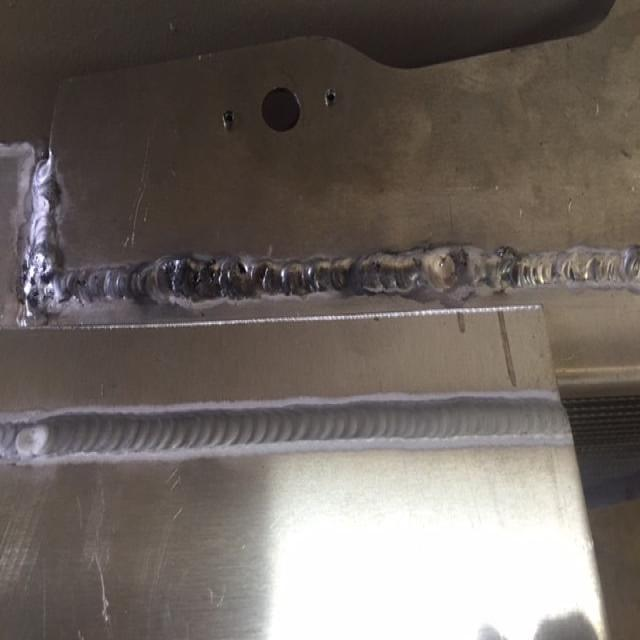Bad Welding: (9, 150, 640, 327)
Good Welding: (0, 384, 574, 471)
